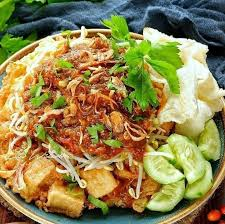Tahu telor: (0, 36, 174, 215)
